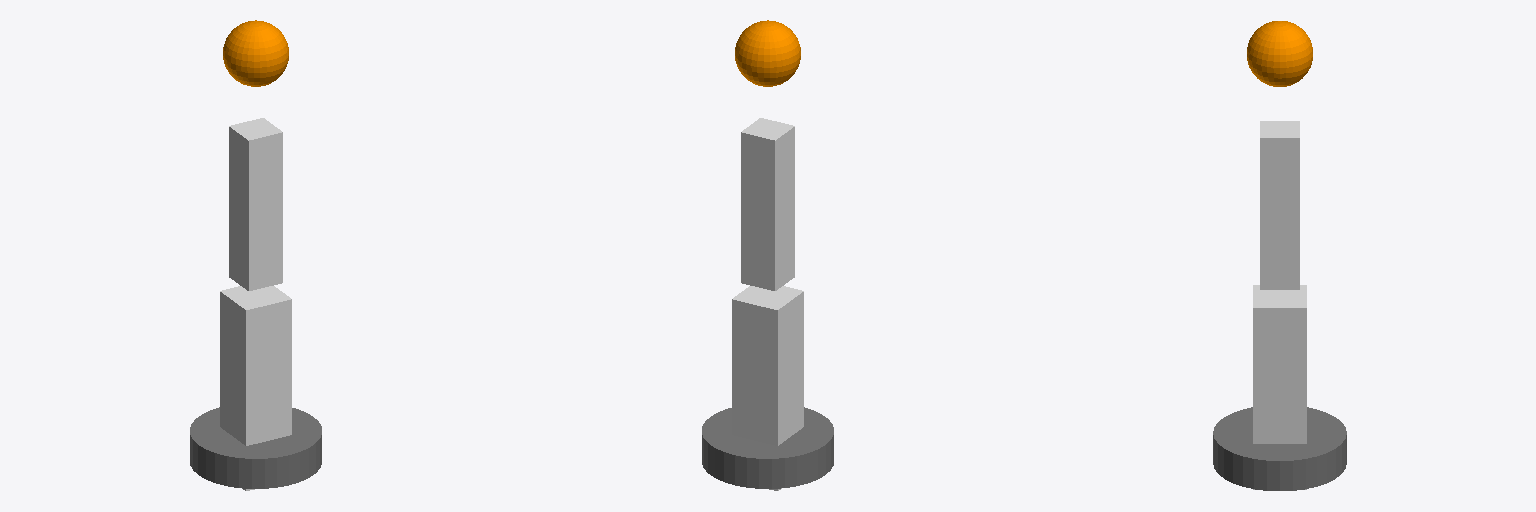
robot.urdf — simple_test:
<?xml version="1.0"?>
<robot name="simple_test">
  
  <!-- 基座 -->
  <link name="base_link">
    <visual>
      <geometry>
        <cylinder radius="0.1" length="0.05"/>
      </geometry>
      <material name="gray">
        <color rgba="0.5 0.5 0.5 1"/>
      </material>
    </visual>
  </link>

  <!-- 关节 1 -->
  <joint name="joint1" type="revolute">
    <parent link="base_link"/>
    <child link="link1"/>
    <origin xyz="0 0 0.1" rpy="0 0 0"/>
    <axis xyz="0 0 1"/>
    <limit lower="-3.14" upper="3.14" effort="100" velocity="1.0"/>
  </joint>

  <link name="link1">
    <visual>
      <geometry>
        <box size="0.08 0.08 0.3"/>
      </geometry>
      <material name="white">
        <color rgba="0.9 0.9 0.9 1"/>
      </material>
    </visual>
  </link>

  <!-- 关节 2 -->
  <joint name="joint2" type="revolute">
    <parent link="link1"/>
    <child link="link2"/>
    <origin xyz="0 0 0.3" rpy="0 0 0"/>
    <axis xyz="0 1 0"/>
    <limit lower="-3.14" upper="3.14" effort="100" velocity="1.0"/>
  </joint>

  <link name="link2">
    <visual>
      <geometry>
        <box size="0.06 0.06 0.25"/>
      </geometry>
      <material name="white">
        <color rgba="0.9 0.9 0.9 1"/>
      </material>
    </visual>
  </link>

  <!-- 关节 3 -->
  <joint name="joint3" type="revolute">
    <parent link="link2"/>
    <child link="end_effector"/>
    <origin xyz="0 0 0.25" rpy="0 0 0"/>
    <axis xyz="0 0 1"/>
    <limit lower="-3.14" upper="3.14" effort="50" velocity="1.0"/>
  </joint>

  <link name="end_effector">
    <visual>
      <geometry>
        <sphere radius="0.05"/>
      </geometry>
      <material name="orange">
        <color rgba="1.0 0.6 0.0 1"/>
      </material>
    </visual>
  </link>

</robot>

--- What the picture shows (computed from the rendered views, not written in the file) ---
Views: 3 orthographic renders of the robot side by side, from view 1: azimuth 30°, elevation 25°; view 2: azimuth 150°, elevation 25°; view 3: azimuth 270°, elevation 25°.
Model simple_test with 4 links and 3 joints (3 revolute), rooted at base_link, posed every joint at zero.
Visible links, largest first — view 1: link1, link2, base_link, end_effector; view 2: link1, link2, base_link, end_effector; view 3: link1, base_link, link2, end_effector.
Link boxes in pixels (x1,y1,x2,y2): link1: (220,286,291,490); link2: (229,118,282,290); base_link: (190,407,321,488); end_effector: (223,20,288,86); link1: (732,286,803,490); link2: (741,118,794,290); base_link: (702,407,833,488); end_effector: (735,20,800,86); link1: (1253,285,1306,489); base_link: (1213,407,1346,490); link2: (1260,121,1299,289); end_effector: (1247,21,1312,86).
Size in the robot's own frame: 0.2 by 0.2 by 0.75 metres.
Geometry: primitives only (box / cylinder / sphere), no mesh files.
